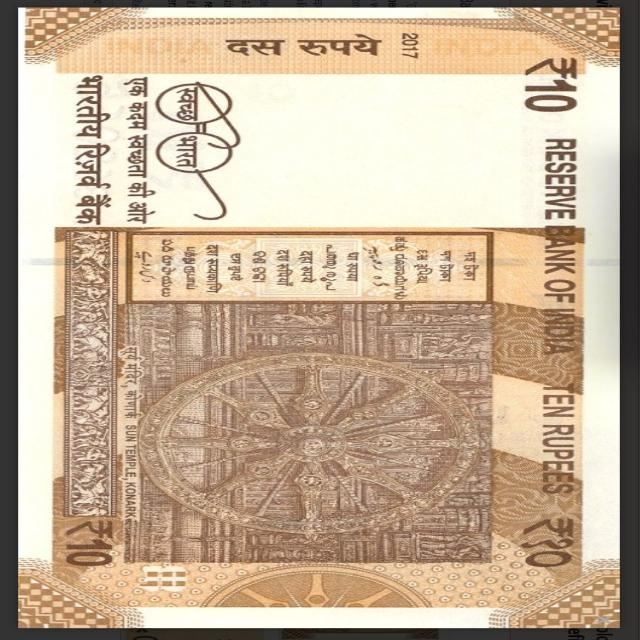10IndianRupees: (20, 6, 620, 628)
